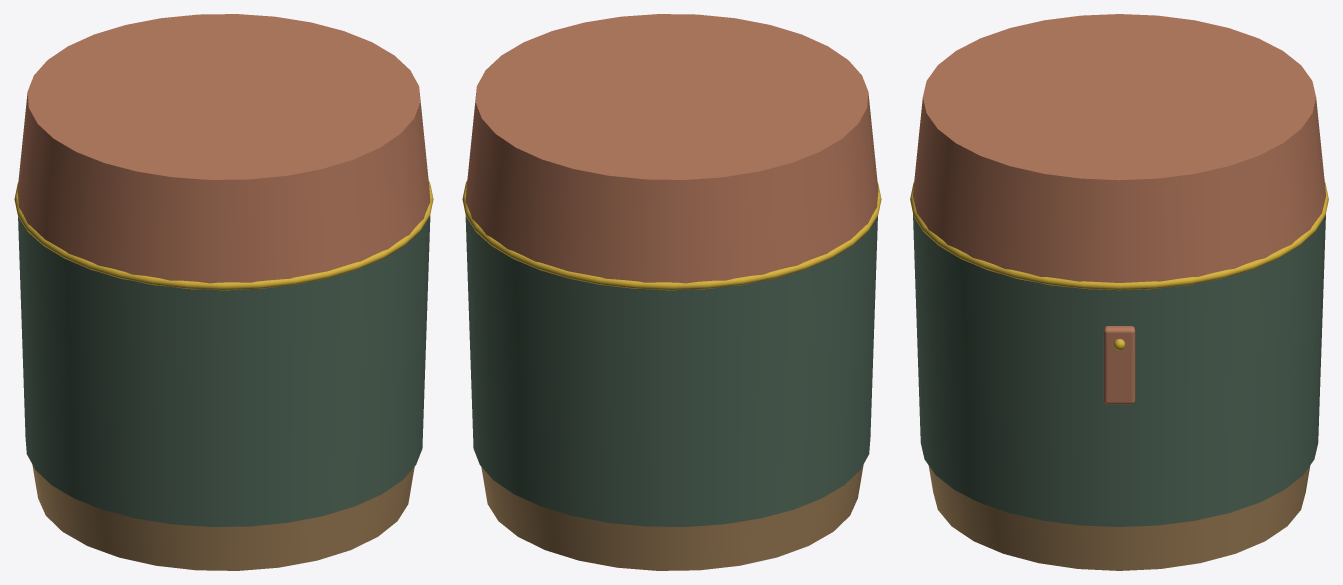
The model's file is campus-pouf-nordic.glb.
The picture shows the model from 3 angles, left to right: view 1: azimuth 30°, elevation 25°; view 2: azimuth 150°, elevation 25°; view 3: azimuth 270°, elevation 25°; orthographic projection.
Bounding box in the file's own units: 0.4394 × 0.4422 × 0.4248.
